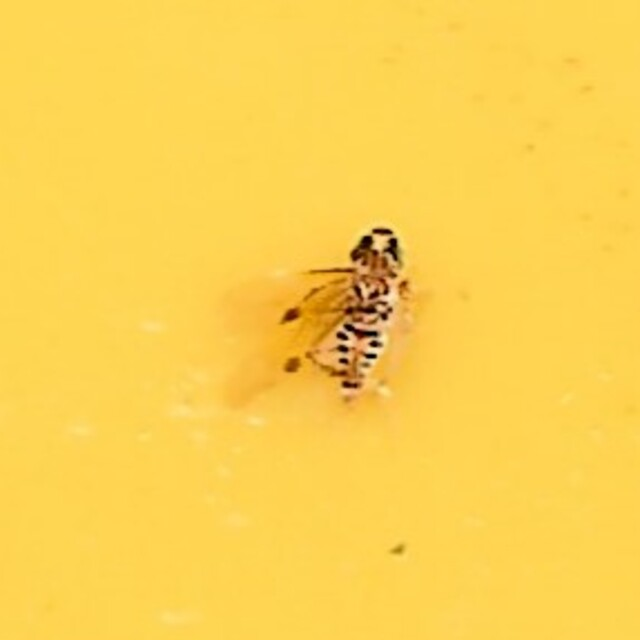Hemiptera: (223, 227, 417, 413)
